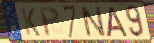7: (62, 5, 78, 40)
9: (125, 5, 145, 39)
A: (106, 6, 129, 37)
K: (20, 7, 42, 38)
N: (79, 6, 108, 38)
P: (38, 6, 62, 39)
